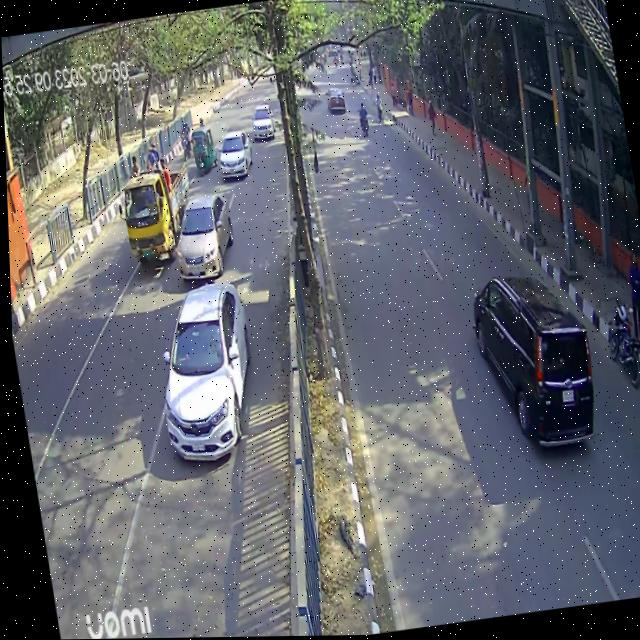cng: (188, 119, 220, 175)
